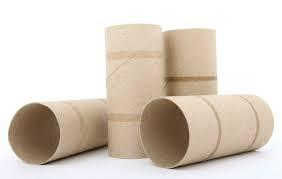plastic: (7, 19, 277, 172)
